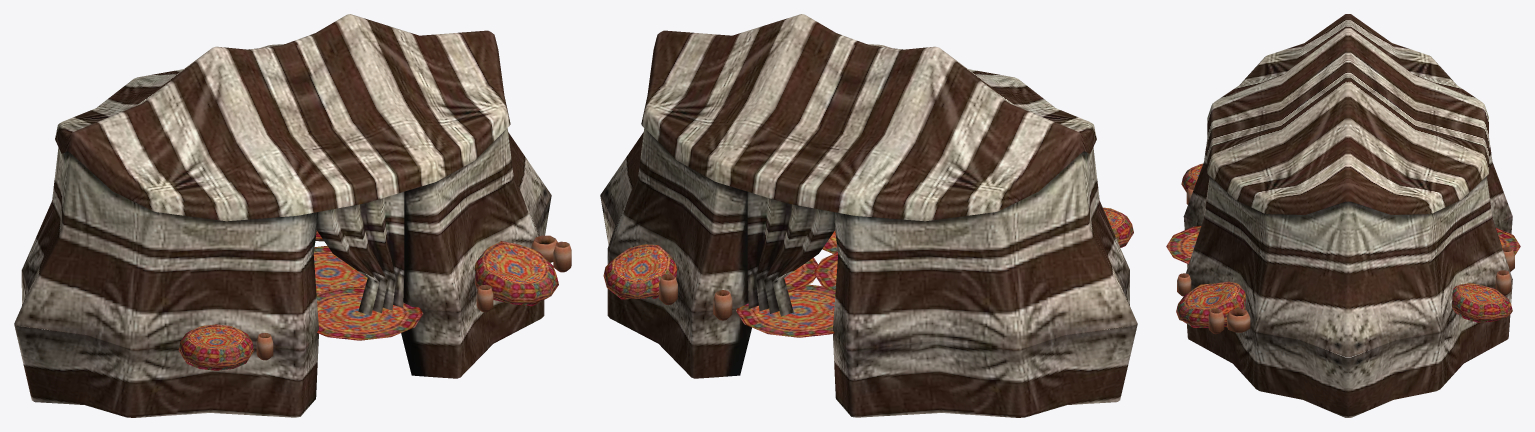
File: structures-tent-big.glb
3 renders of one model, left to right at view 1: azimuth 30°, elevation 25°; view 2: azimuth 150°, elevation 25°; view 3: azimuth 270°, elevation 25°, orthographic. The views are drawn at different scales.
Visible parts, largest first — view 1: Circle_002; view 2: Circle_002; view 3: Circle_002.
Boxes of the visible parts, left/top/right/bottom form: Circle_002: left=14, top=14, right=571, bottom=417; Circle_002: left=600, top=14, right=1137, bottom=417; Circle_002: left=1166, top=14, right=1520, bottom=417.
Bounding box in the file's own units: 6.24 × 3.44 × 4.26.
Materials: 1 (1 with a texture image).
